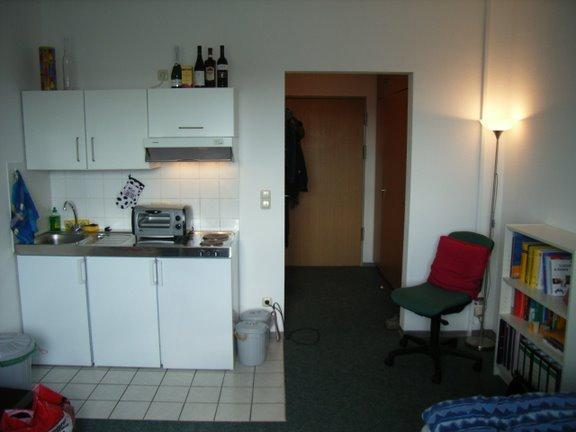Bote de Basura: (235, 305, 272, 371), (2, 326, 35, 386)
Cama: (422, 381, 575, 429)
Lavaplatos: (38, 197, 94, 254)
Otro Obstaculo: (11, 394, 78, 428)
Puerta: (286, 98, 362, 265), (381, 94, 406, 289)
